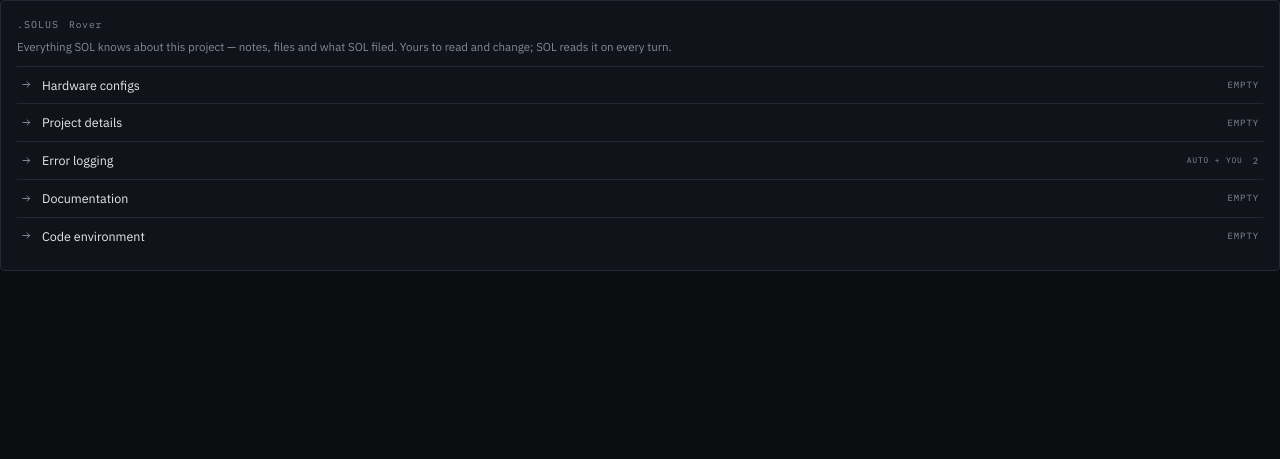
it: SolusCard › renders hostile entry text as text, never as markup
Click the button "Error logging AUTO + YOU 2".
click(78, 160)  # box [17,141,1263,179]
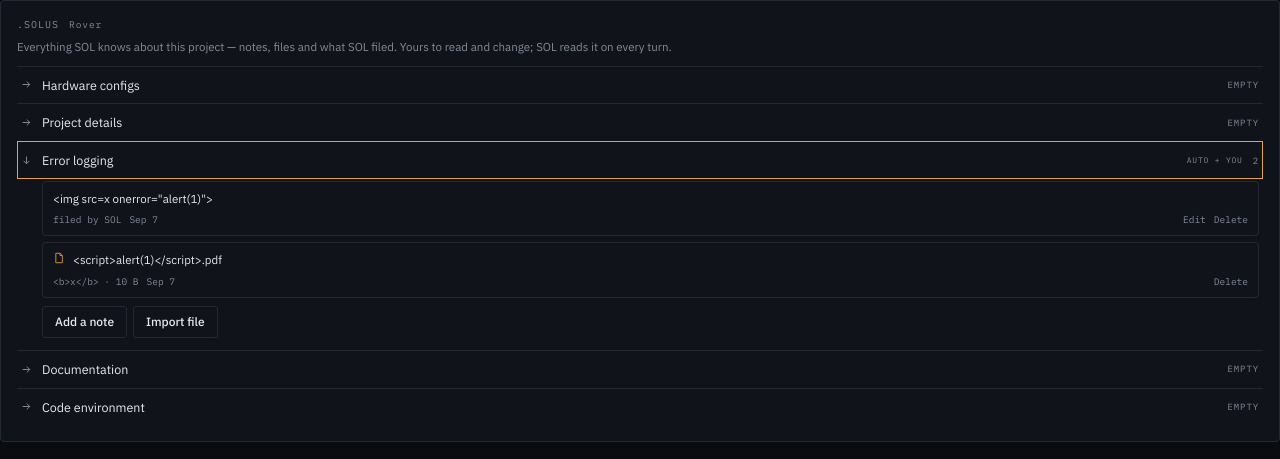
Result: the text "<img src=x onerror=\"alert(1)\">" is shown at [53,191,213,206]
Result: the text "<script>alert(1)</script>.pdf" is shown at [73,251,222,269]
Result: the text "<b>x</b> · 10 B" is shown at [53,274,138,289]
